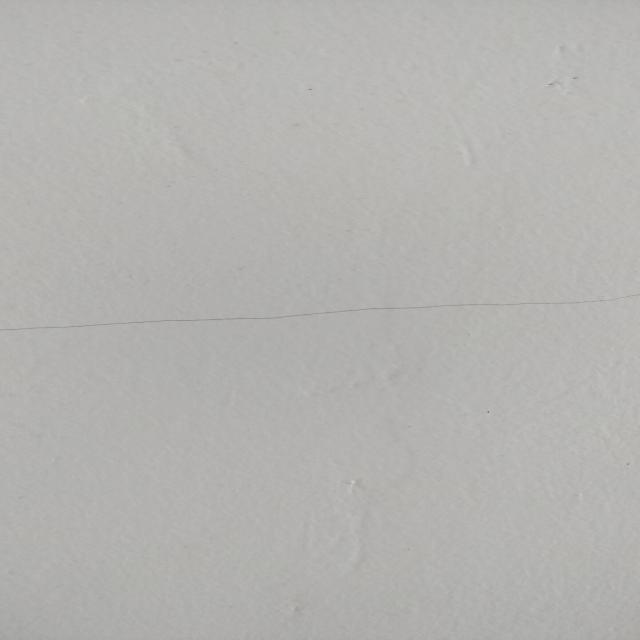Crack: (0, 294, 640, 332)
